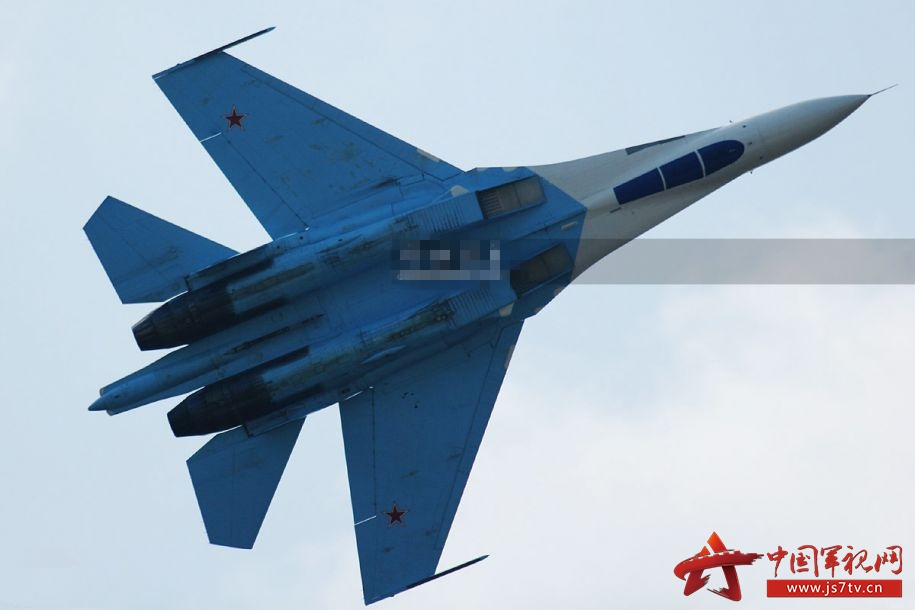airplane: (78, 24, 896, 604)
